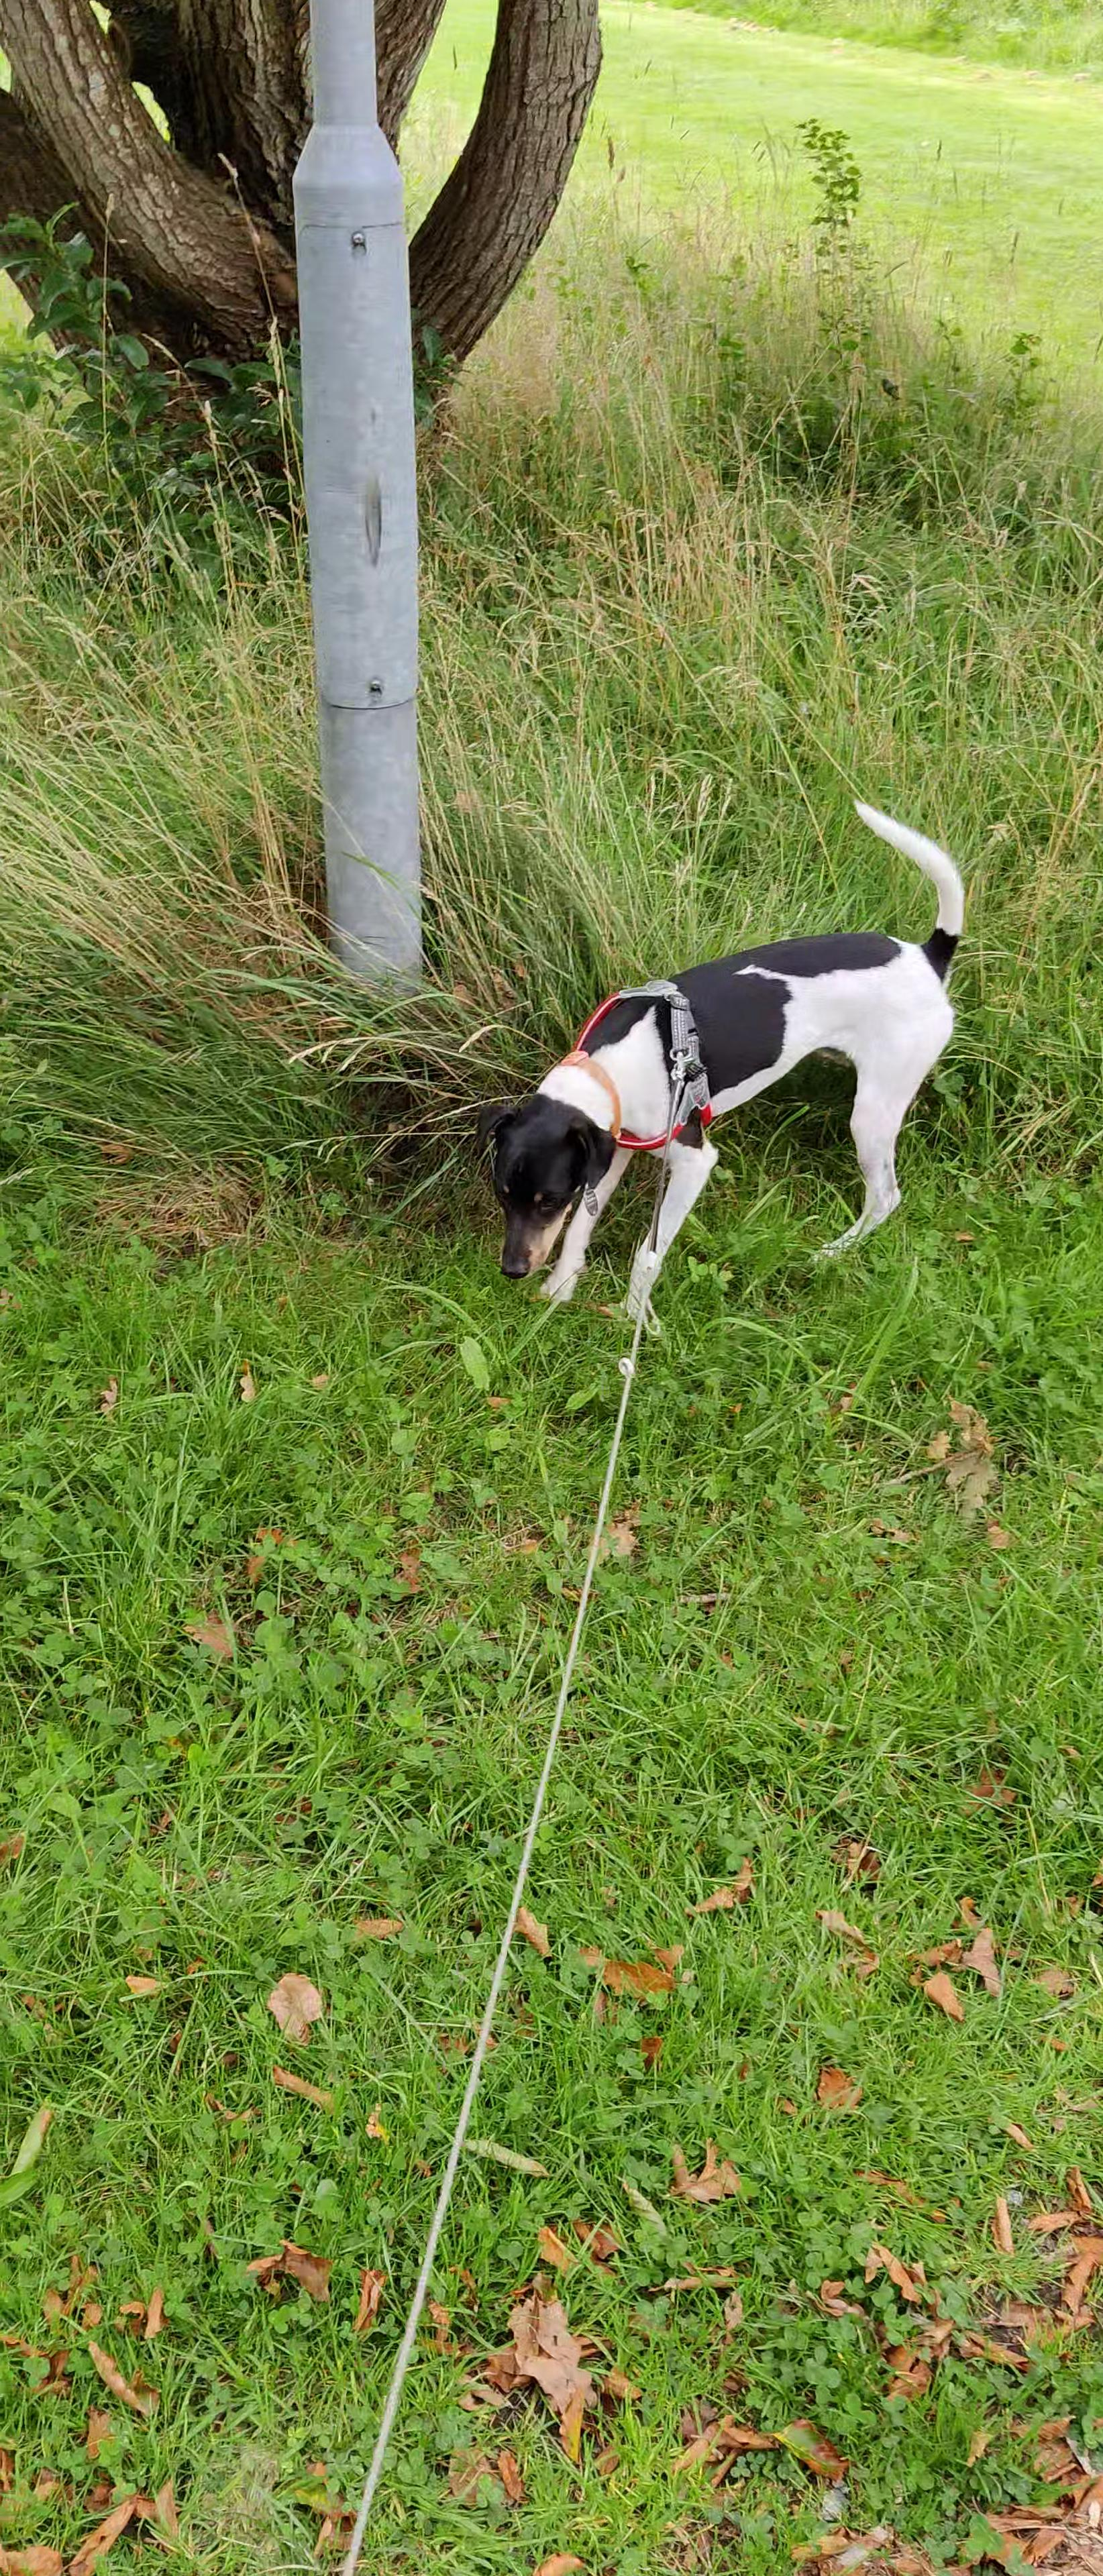Dog: (464, 797, 975, 1324)
